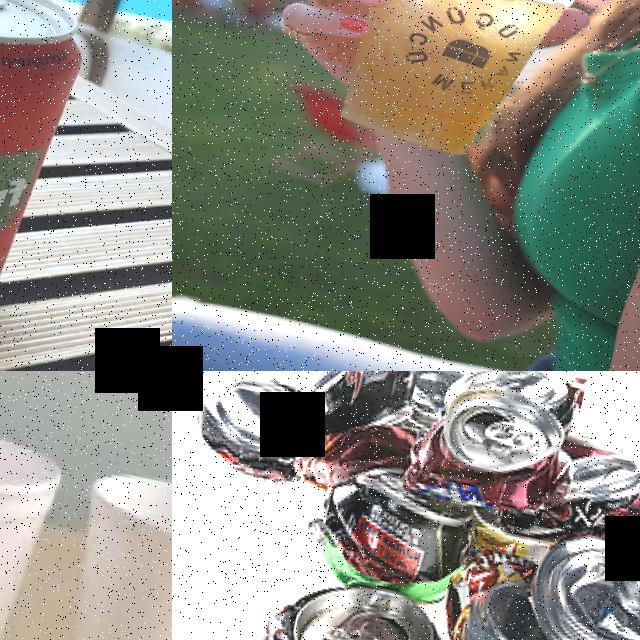can: (0, 0, 96, 341)
cup: (290, 0, 591, 177), (24, 463, 172, 640), (0, 410, 72, 640)
